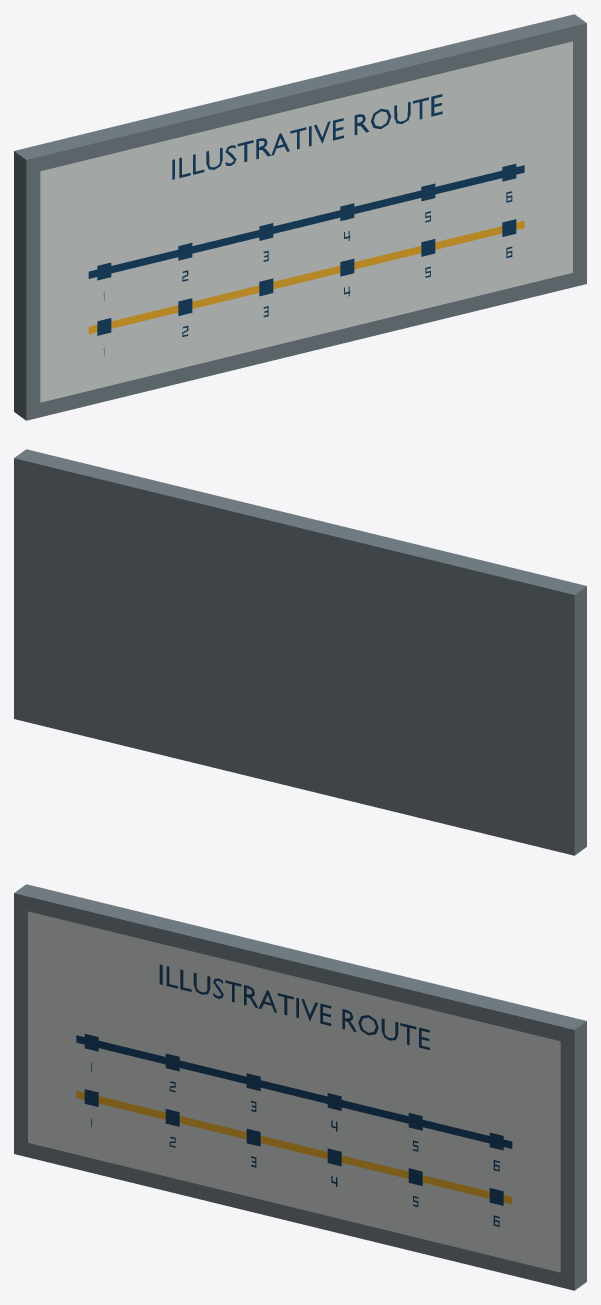
File: sg-route-map.glb
3 renders of one model, top to bottom at view 1: azimuth 30°, elevation 25°; view 2: azimuth 150°, elevation 25°; view 3: azimuth 330°, elevation 25°, orthographic.
Visible parts, largest first — view 1: body; view 2: body; view 3: body.
Boxes of the visible parts, bbox=[...] form: body: bbox=[14, 14, 586, 420]; body: bbox=[14, 449, 586, 855]; body: bbox=[14, 884, 586, 1290].
Size of the model in its own units: 1.8 by 0.8 by 0.0693.
